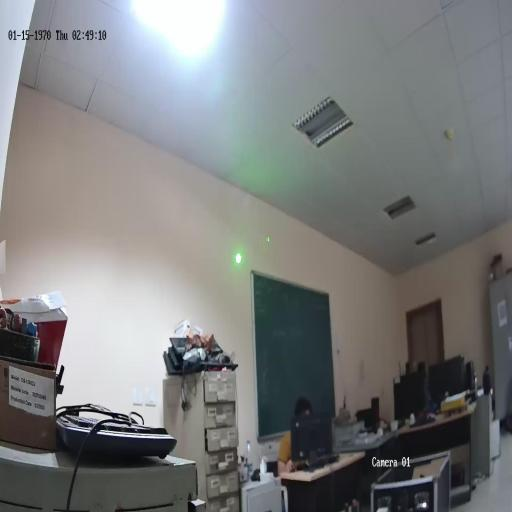laser: (234, 249, 242, 266)
